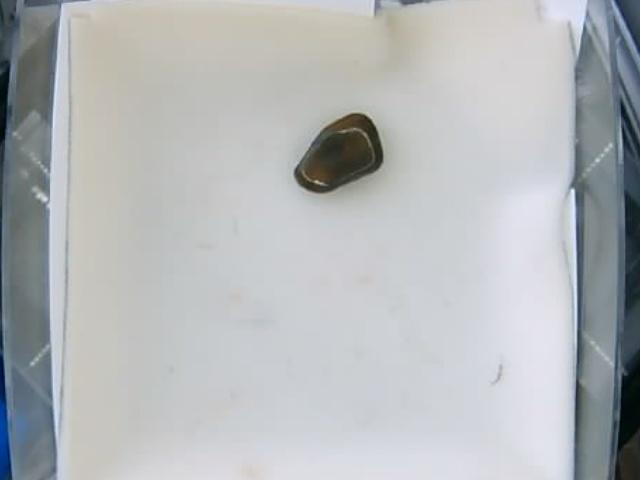Pebble: (293, 112, 386, 194)
